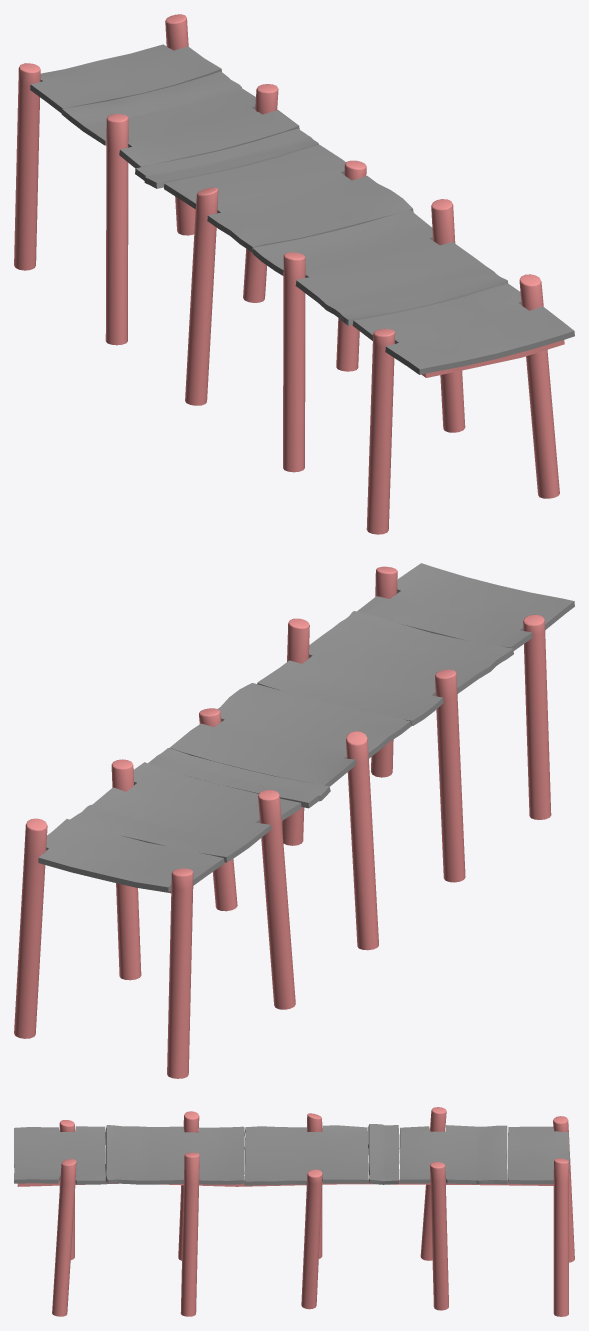
The model's file is Woods_Lake_Dock_01.gltf.
3 views of the same model, one above another, from view 1: azimuth 30°, elevation 25°; view 2: azimuth 150°, elevation 25°; view 3: azimuth 270°, elevation 25° (orthographic). The views are drawn at different scales.
Visible parts, largest first — view 1: Woods_Lake_Dock_01; view 2: Woods_Lake_Dock_01; view 3: Woods_Lake_Dock_01.
Boxes of the visible parts, x1,y1,x2,y2 form: Woods_Lake_Dock_01: (14, 14, 574, 534); Woods_Lake_Dock_01: (14, 563, 574, 1078); Woods_Lake_Dock_01: (14, 1107, 574, 1316).
Bounding box in the file's own units: 23.36 × 26.73 × 86.52.
